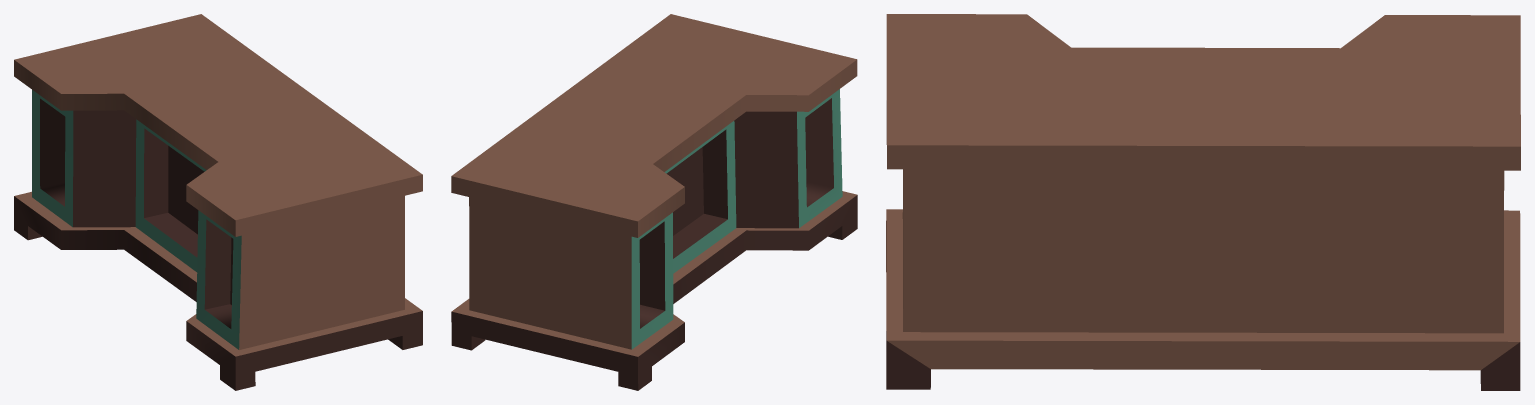
File: A3D_Comptoir_de_retour_.fbx
The picture shows the model from 3 angles, left to right: view 1: azimuth 30°, elevation 25°; view 2: azimuth 150°, elevation 25°; view 3: azimuth 270°, elevation 25°; orthographic projection. The views are drawn at different scales.
Visible parts, largest first — view 1: pCube79; view 2: pCube79; view 3: pCube79.
Boxes of the visible parts, x1,y1,x2,y2 form: pCube79: (14,14,422,390); pCube79: (451,14,857,390); pCube79: (886,14,1520,390).
Bounding box in the file's own units: 23.93 × 20.88 × 48.81.
